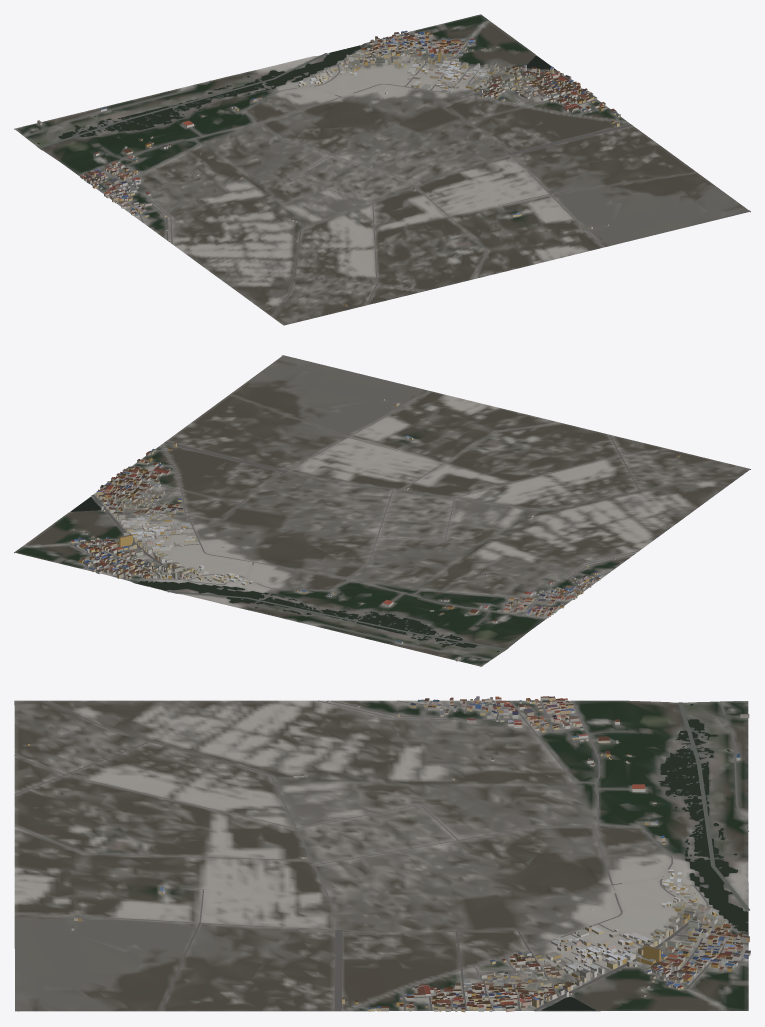
3 views of the same model, one above another, from view 1: azimuth 30°, elevation 25°; view 2: azimuth 150°, elevation 25°; view 3: azimuth 270°, elevation 25° (orthographic). The views are drawn at different scales.
Visible parts, largest first — view 1: ground, buildings, roads, water; view 2: ground, buildings, roads, water; view 3: ground, buildings, roads, water.
Boxes of the visible parts, left/top/right/bottom form: ground: left=14, top=14, right=750, bottom=325; buildings: left=37, top=30, right=620, bottom=305; roads: left=24, top=30, right=750, bottom=317; water: left=37, top=45, right=556, bottom=148; ground: left=14, top=355, right=750, bottom=666; buildings: left=71, top=398, right=679, bottom=661; roads: left=70, top=355, right=739, bottom=659; water: left=71, top=497, right=506, bottom=652; ground: left=14, top=700, right=748, bottom=1011; buildings: left=27, top=696, right=750, bottom=1012; roads: left=14, top=700, right=748, bottom=1011; water: left=541, top=702, right=749, bottom=1010.
Bounding box in the file's own units: 1412 × 34.01 × 1408.
